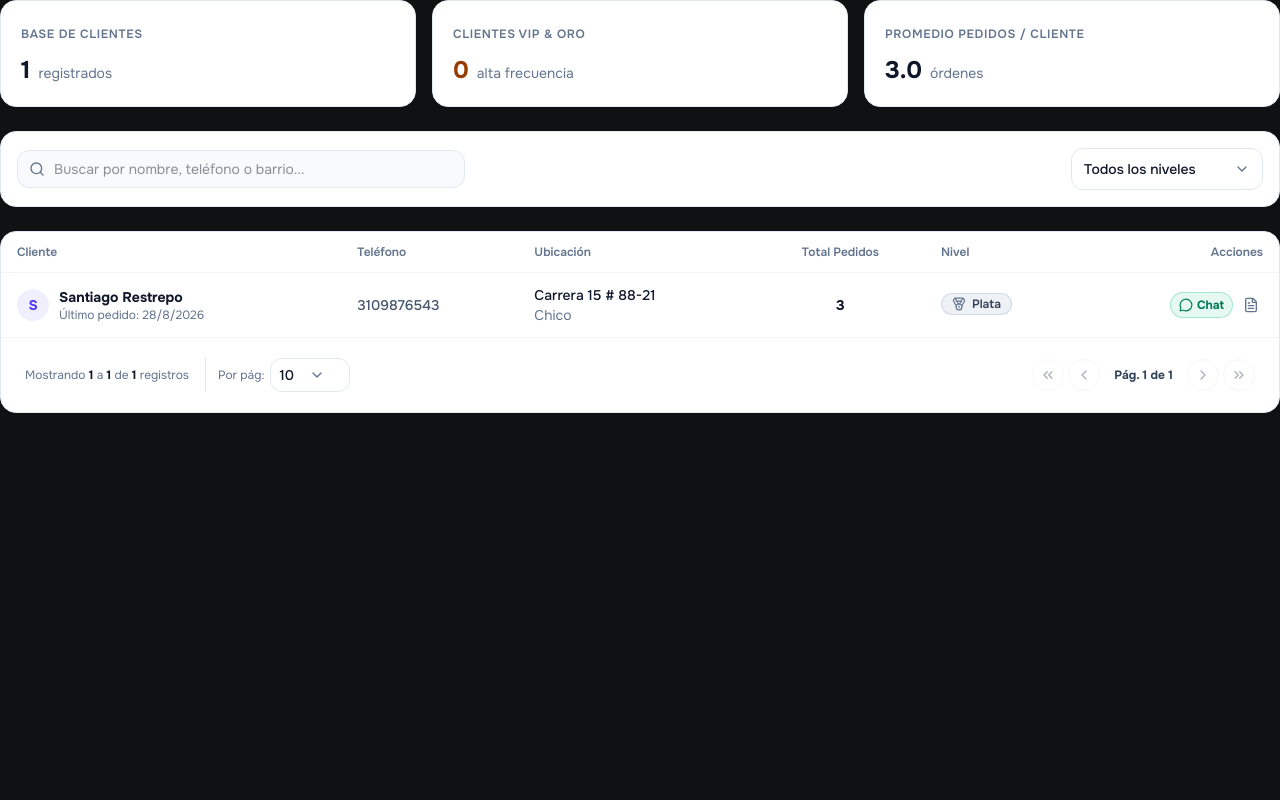
CustomerCRM edit and delete › Customer mutation gating (customers.manage) › hides Editar datos, Eliminar cliente, Guardar Notas and disables notes in details modal for read-only users
Open customer modal
Step 1. Click the button titled "Ficha del cliente" → (1251, 305), box [1239,293,1263,317]
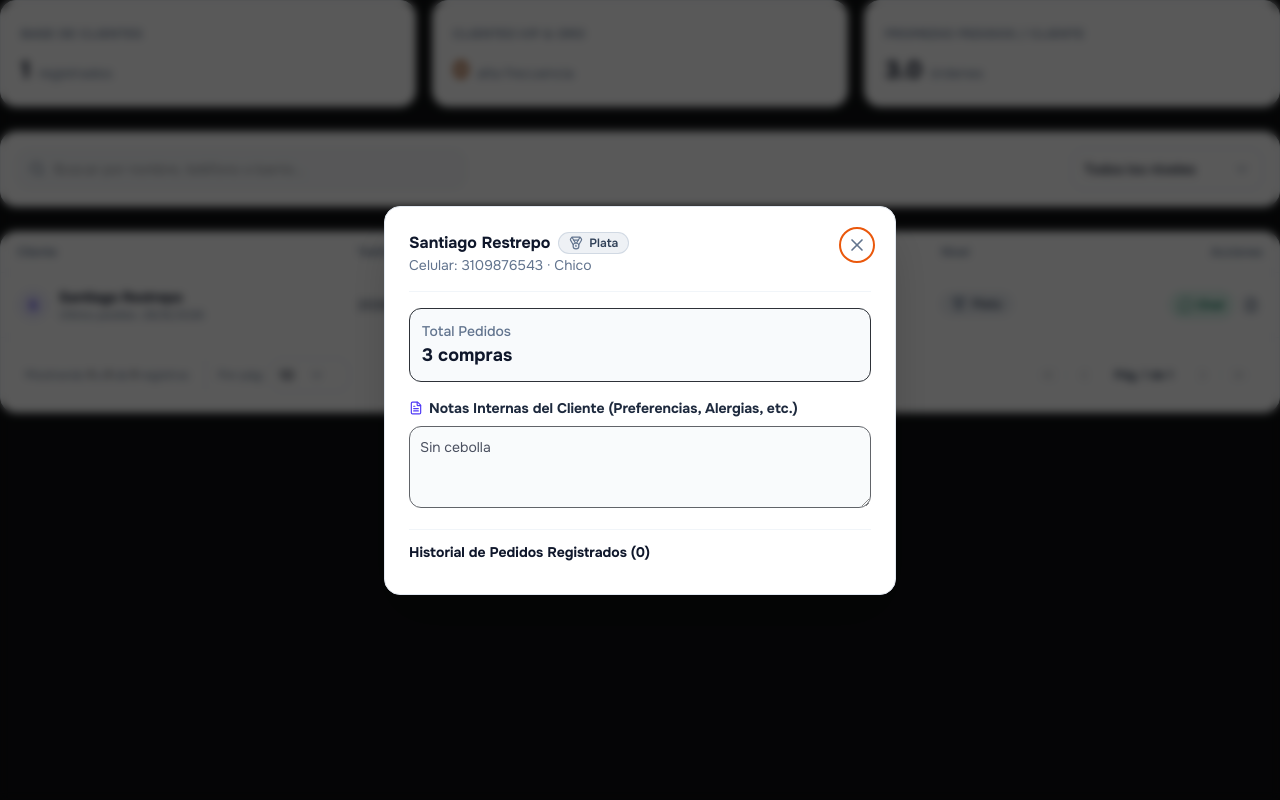
Check: the heading "Santiago Restrepo" is shown, box [409,230,550,254]
Check: the text "Celular: 3109876543 · Chico" is shown, box [409,256,592,274]
Check: the heading "Historial de Pedidos Registrados (0)" is shown, box [409,542,650,560]
